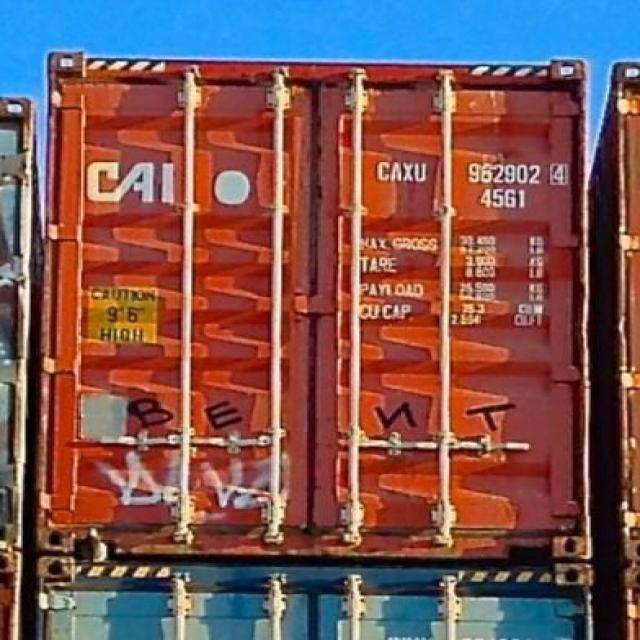ISO: (477, 188, 536, 212)
container_number: (376, 151, 573, 184)
